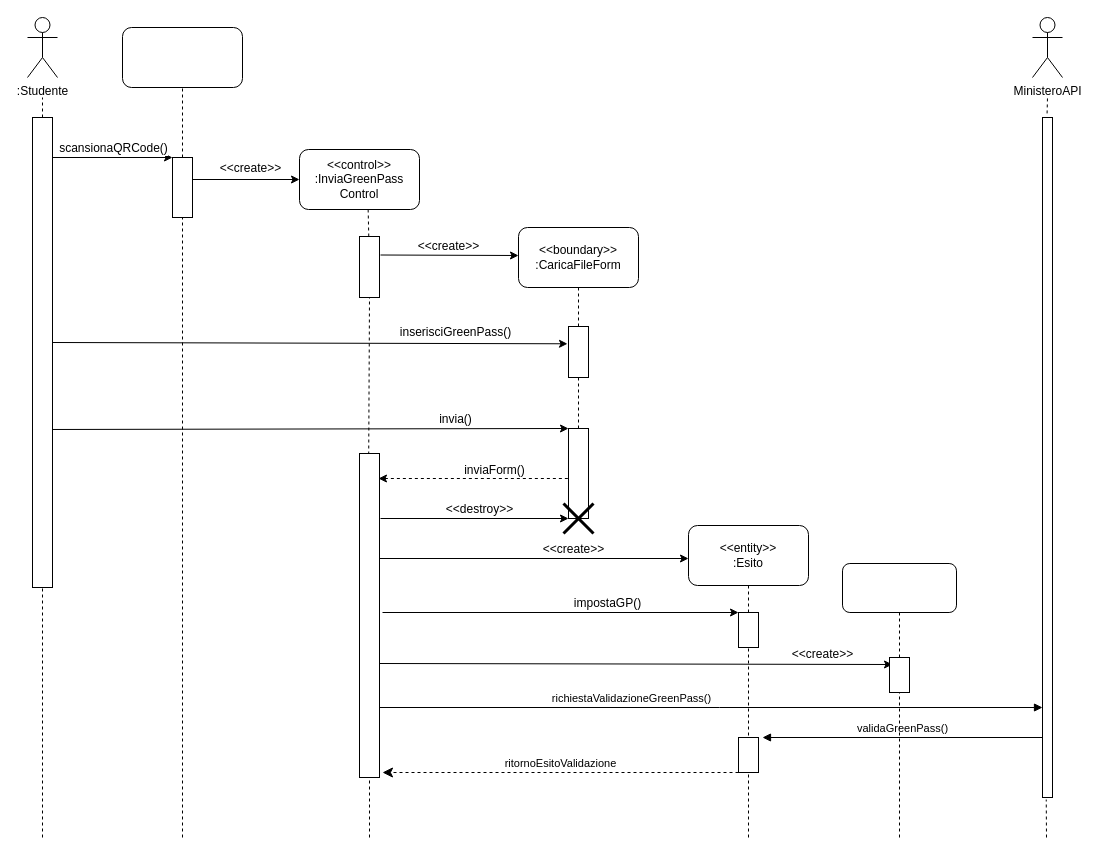
This 1099x856 diagram has some shape labels left out. Here are the shapes that lost their labels. From the top down, the box of each, then its label:
(122, 26, 242, 88): <<boundary>> :DispositivoStudente
(842, 562, 956, 612): <<boundary>> : AvvisoCarica File
